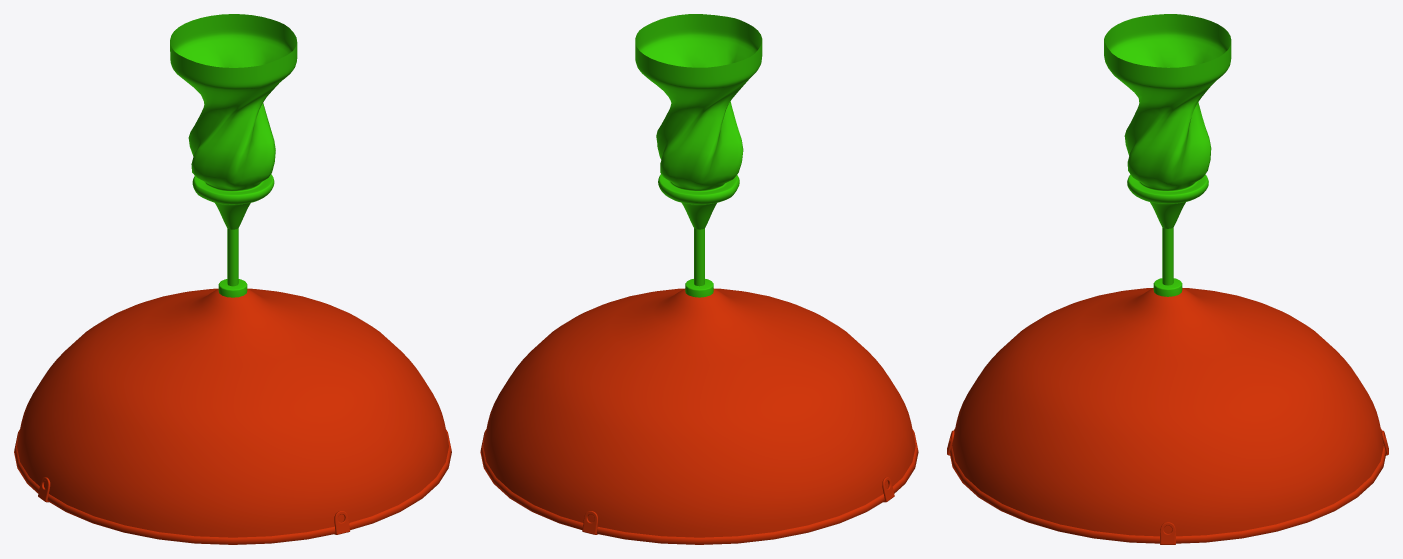
The model's file is Lamp_Sketchfab.fbx.
3 renders of one model, left to right at view 1: azimuth 30°, elevation 25°; view 2: azimuth 150°, elevation 25°; view 3: azimuth 270°, elevation 25°, orthographic.
Parts seen in each view (by area): view 1: S_phere, Pain; view 2: S_phere, Pain; view 3: S_phere, Pain.
Boxes of the visible parts, <box> form: S_phere: <box>14,288,451,544</box>; Pain: <box>170,14,297,297</box>; S_phere: <box>480,288,918,544</box>; Pain: <box>635,14,762,297</box>; S_phere: <box>947,288,1388,544</box>; Pain: <box>1104,14,1231,296</box>.
Size of the model in its own units: 86.68 by 89.34 by 86.68.
